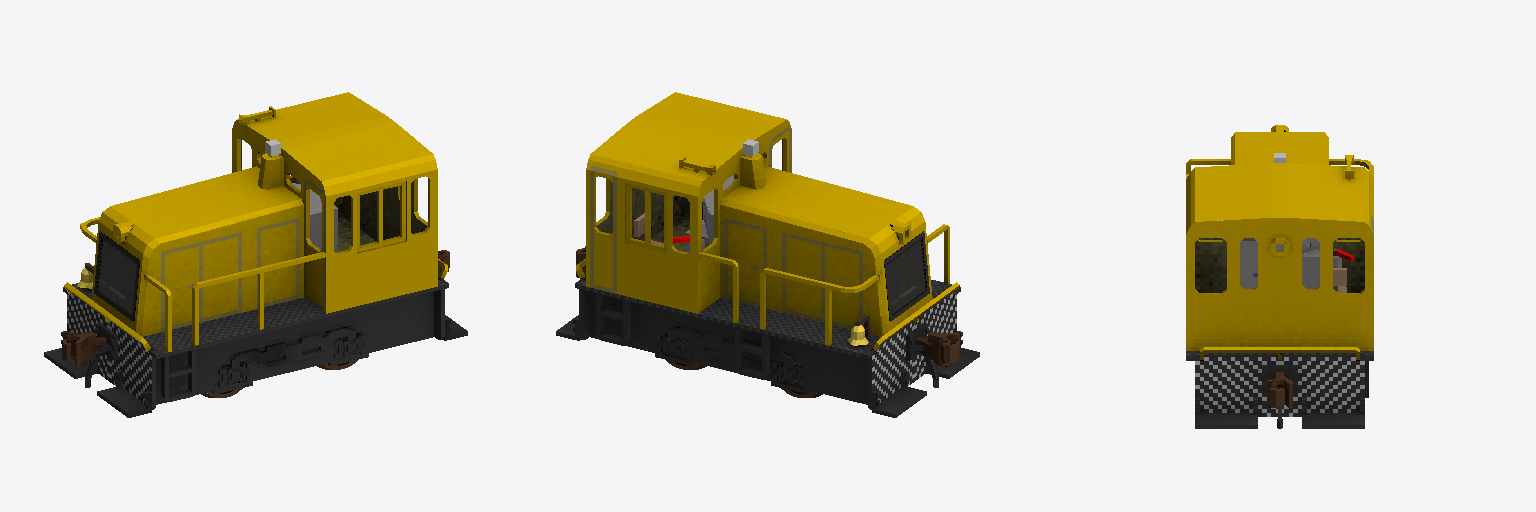
3 renders of one model, left to right at view 1: azimuth 30°, elevation 25°; view 2: azimuth 150°, elevation 25°; view 3: azimuth 270°, elevation 25°, orthographic.
Parts seen in each view (by area): view 1: CAB_Cube.002, SHELL_Cube.001, FRAME_Cube.005, FRAME_extras_Plane, FRAME_COUPLER.002_Cube.004, CAB_interior_Cube.017; view 2: CAB_Cube.002, SHELL_Cube.001, FRAME_Cube.005, FRAME_extras_Plane, FRAME_COUPLER.002_Cube.004, CAB_interior_Cube.017; view 3: CAB_Cube.002, FRAME_Cube.005, SHELL_Cube.001, CAB_interior_Cube.017, FRAME_extras_Plane, FRAME_COUPLER.002_Cube.004.
Part boxes in pixels (x1,y1,x2,y2): CAB_Cube.002: (232,92,437,313); SHELL_Cube.001: (91,153,303,336); FRAME_Cube.005: (44,278,467,417); FRAME_extras_Plane: (64,217,447,401); FRAME_COUPLER.002_Cube.004: (62,250,449,367); CAB_interior_Cube.017: (292,183,337,252); CAB_Cube.002: (586,92,791,313); SHELL_Cube.001: (720,153,932,336); FRAME_Cube.005: (556,278,979,417); FRAME_extras_Plane: (576,224,959,379); FRAME_COUPLER.002_Cube.004: (576,246,959,366); CAB_interior_Cube.017: (634,175,733,252); CAB_Cube.002: (1186,163,1373,350); FRAME_Cube.005: (1186,238,1373,428); SHELL_Cube.001: (1231,132,1328,164); CAB_interior_Cube.017: (1240,238,1353,292); FRAME_extras_Plane: (1186,159,1373,397); FRAME_COUPLER.002_Cube.004: (1267,372,1292,407).
Size of the model in its own units: 6.21 by 3.41 by 2.62.
2 materials, 1 textured.